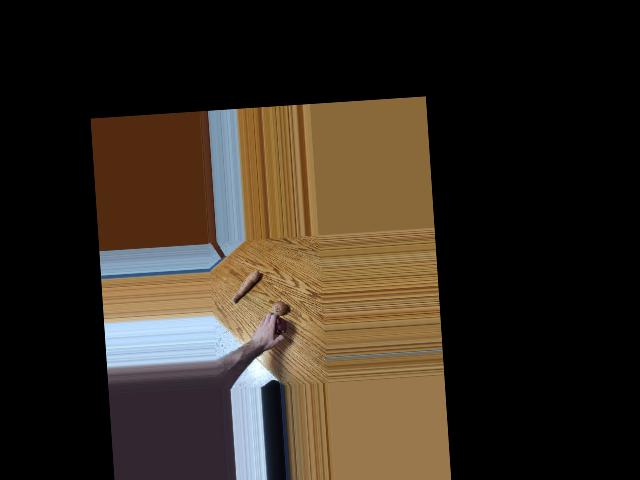onion: (270, 316, 286, 332)
